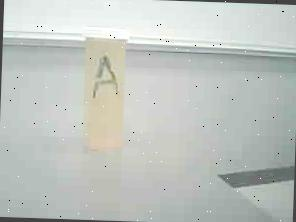Bottle A: (70, 19, 138, 162)
